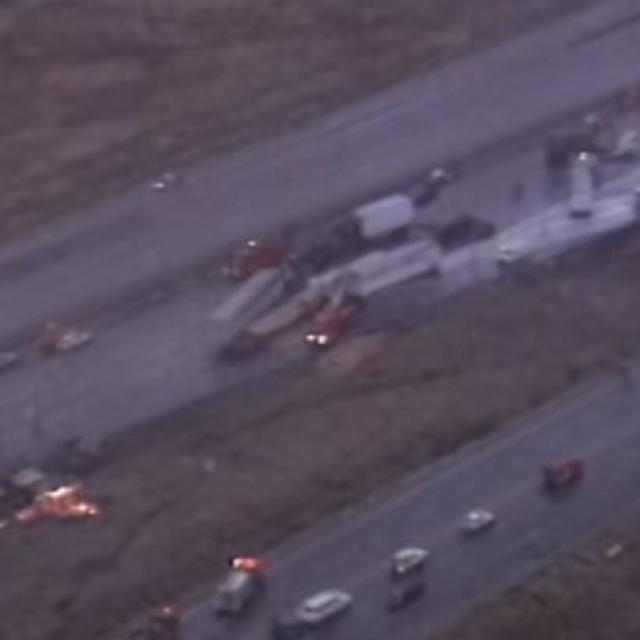traffic_incident: (222, 198, 462, 369)
